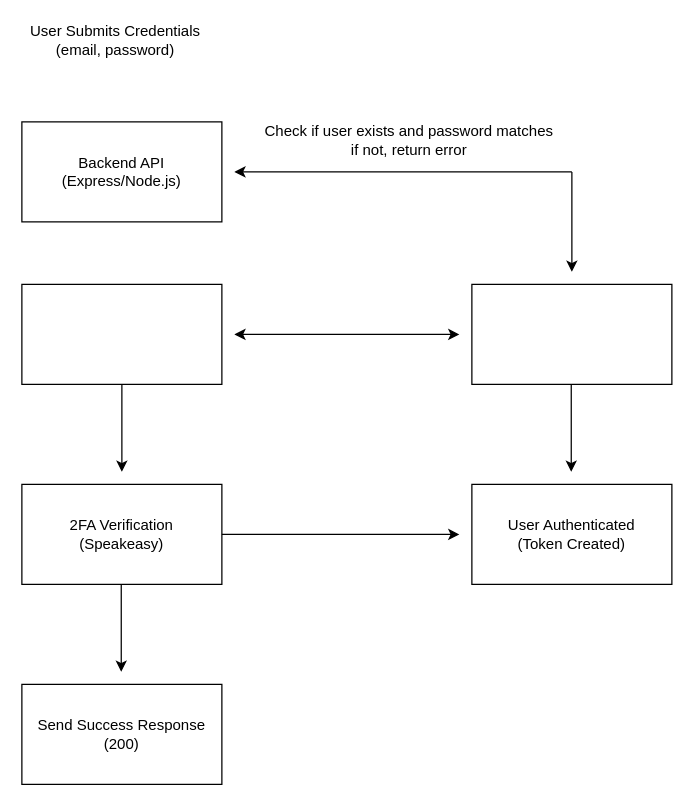
The diagram is 694 pixels wide and 806 high, and some of its shapes have lost their labels. The shapes that lost their labels are listed below. From the top down, each one's box as (x1, y1, x2, y2) in pixels, then its label:
(21, 283, 222, 384): Validate Password (bcrypt.compare)
(471, 283, 672, 384): Generate Token (JWT)
